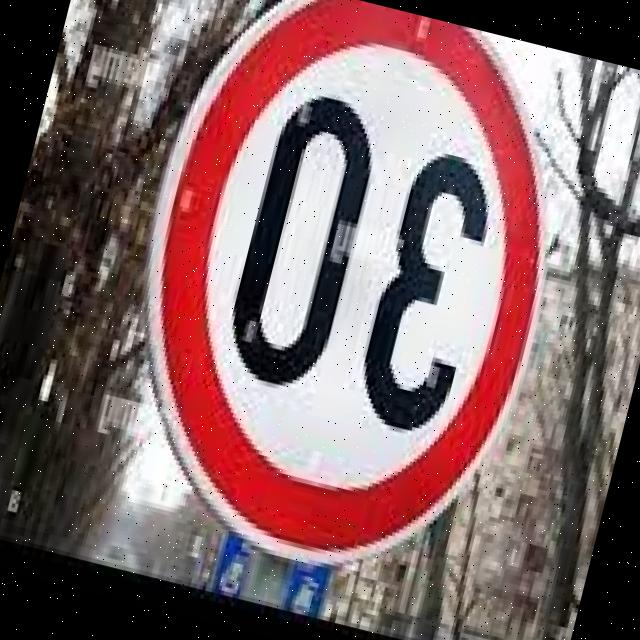speed_limit_30: (65, 0, 605, 607)
